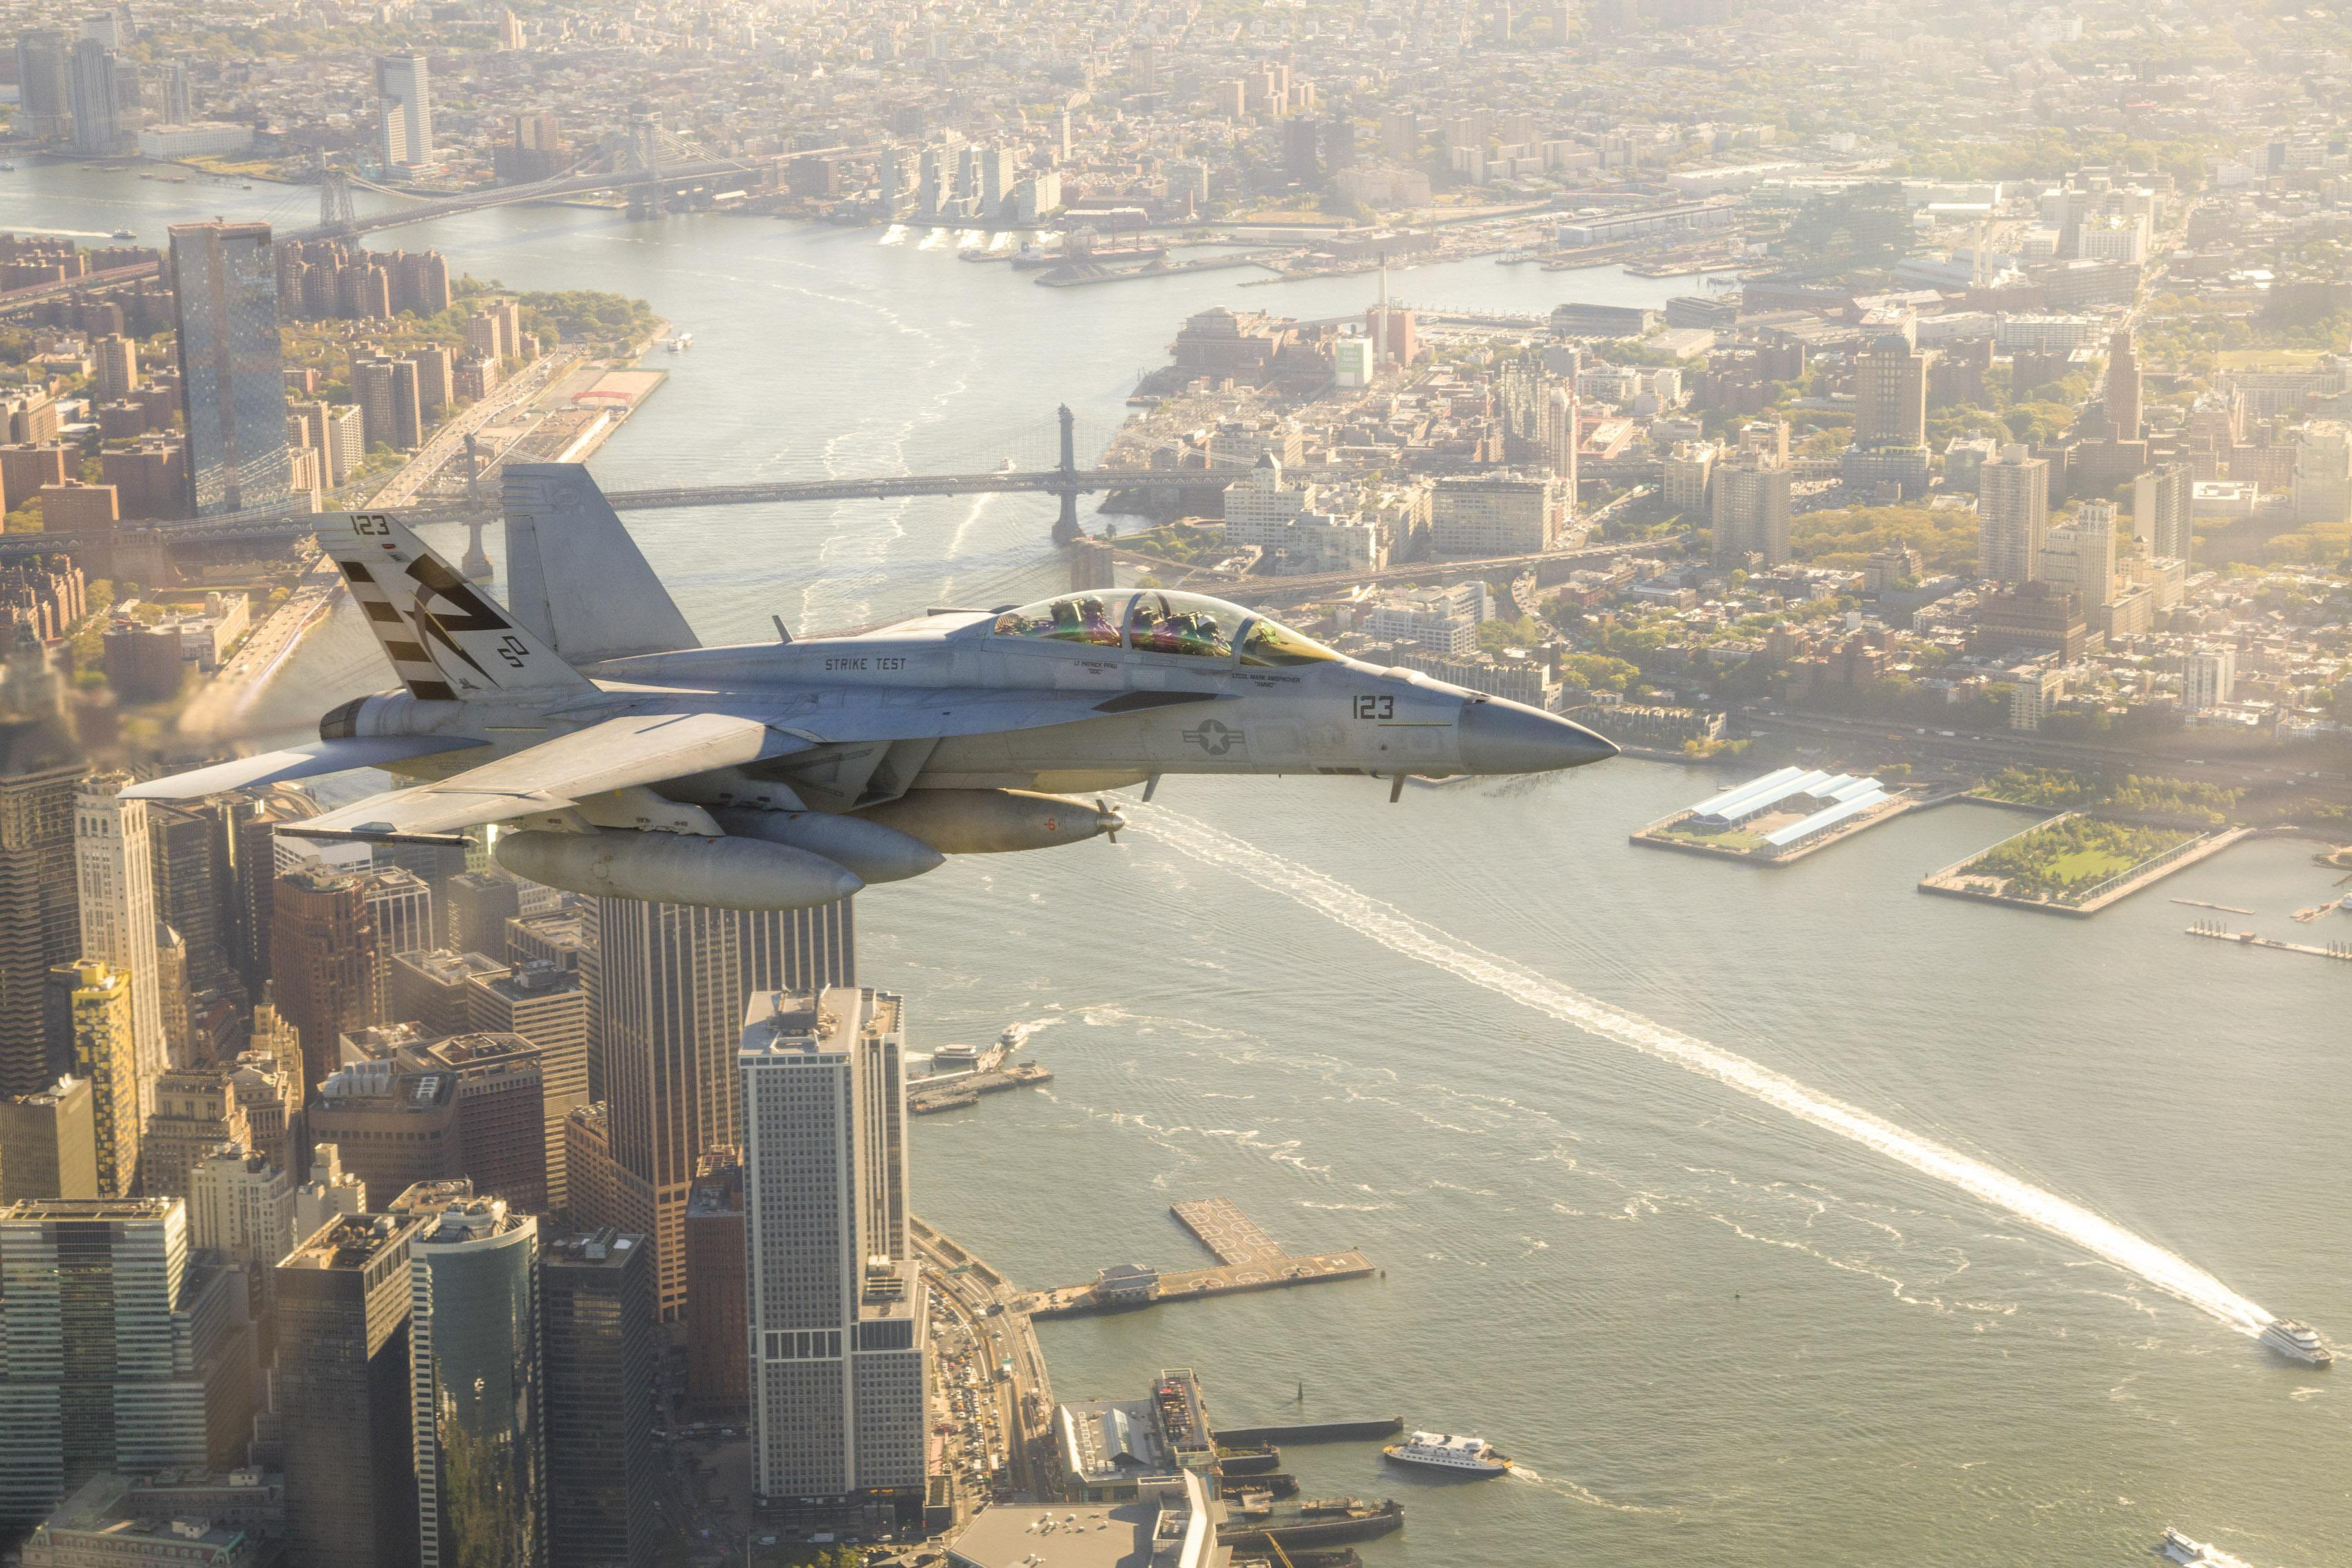airplane: (114, 462, 1622, 912)
